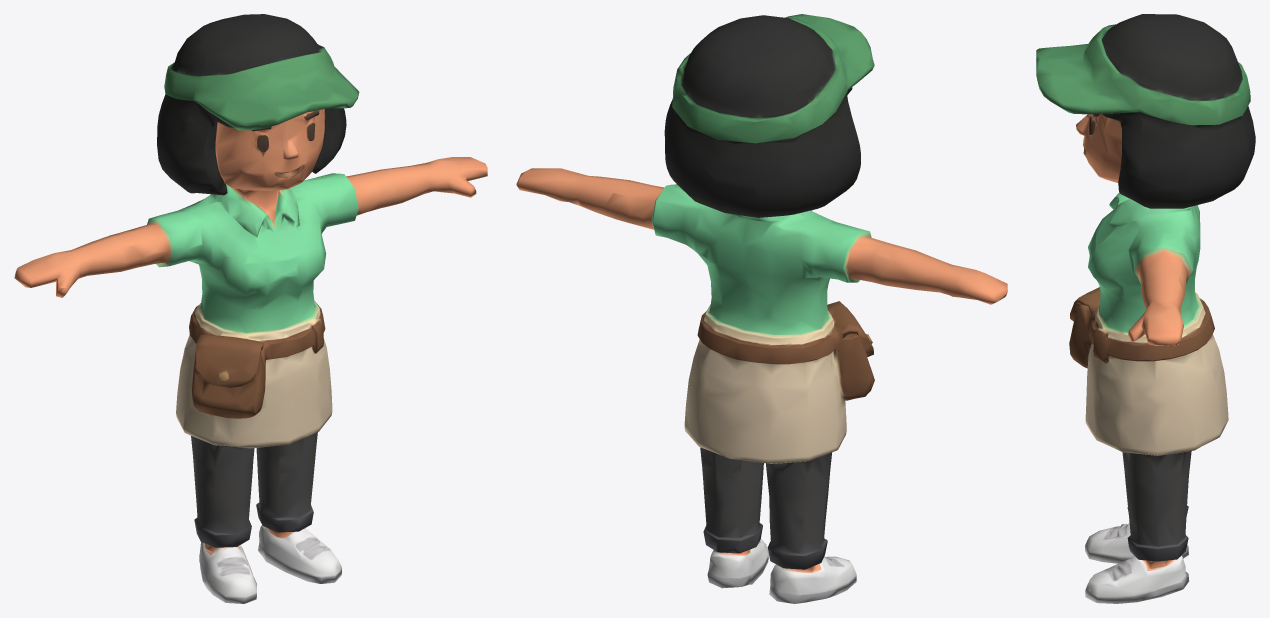
The model's file is cashier_front.glb.
3 views of the same model, side by side, from view 1: azimuth 30°, elevation 25°; view 2: azimuth 150°, elevation 25°; view 3: azimuth 270°, elevation 25° (orthographic). The views are drawn at different scales.
Parts seen in each view (by area): view 1: tripo_node_238448be-3431-4da0-8c56-d5926e9ca425; view 2: tripo_node_238448be-3431-4da0-8c56-d5926e9ca425; view 3: tripo_node_238448be-3431-4da0-8c56-d5926e9ca425.
Boxes of the visible parts, box(x1,y1,x2,y2) form: tripo_node_238448be-3431-4da0-8c56-d5926e9ca425: box(14, 14, 487, 603); tripo_node_238448be-3431-4da0-8c56-d5926e9ca425: box(516, 14, 1007, 603); tripo_node_238448be-3431-4da0-8c56-d5926e9ca425: box(1036, 14, 1255, 603).
Size of the model in its own units: 0.8998 by 1 by 0.361.
1 material, 1 textured.
